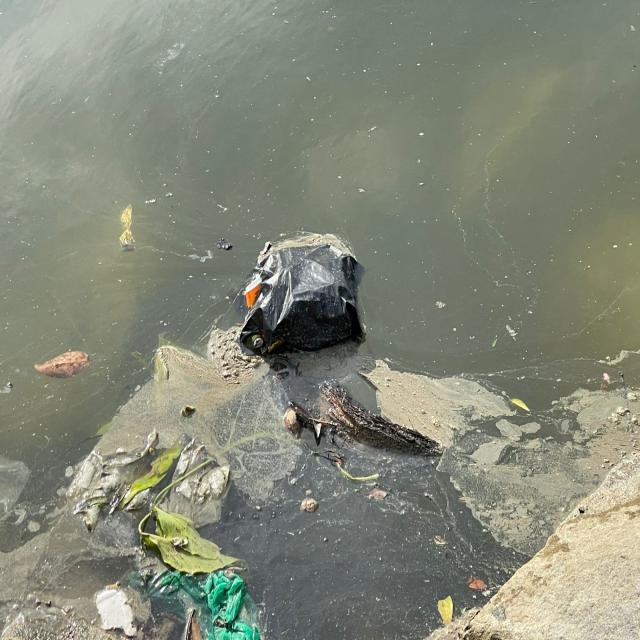Kantong Plastik: (237, 231, 370, 358), (143, 552, 264, 640)
